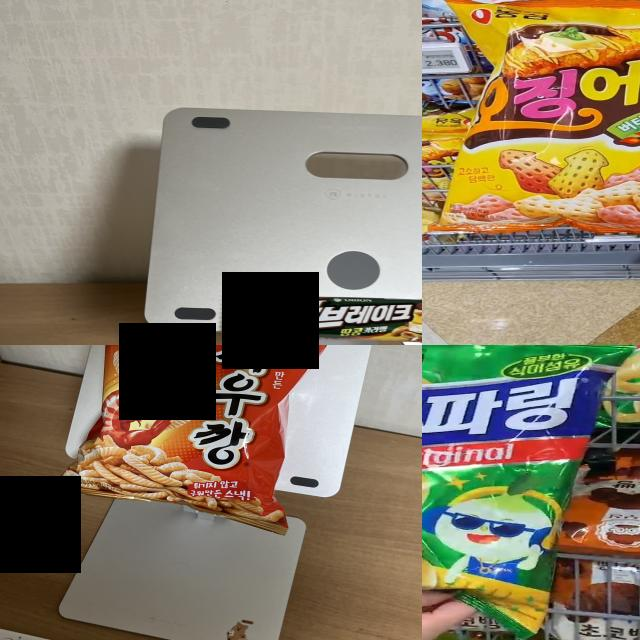hotBreak: (224, 294, 422, 344)
onionRing: (422, 345, 585, 587)
ozingZip: (451, 1, 640, 231)
shrimpGGang: (103, 345, 285, 492)
